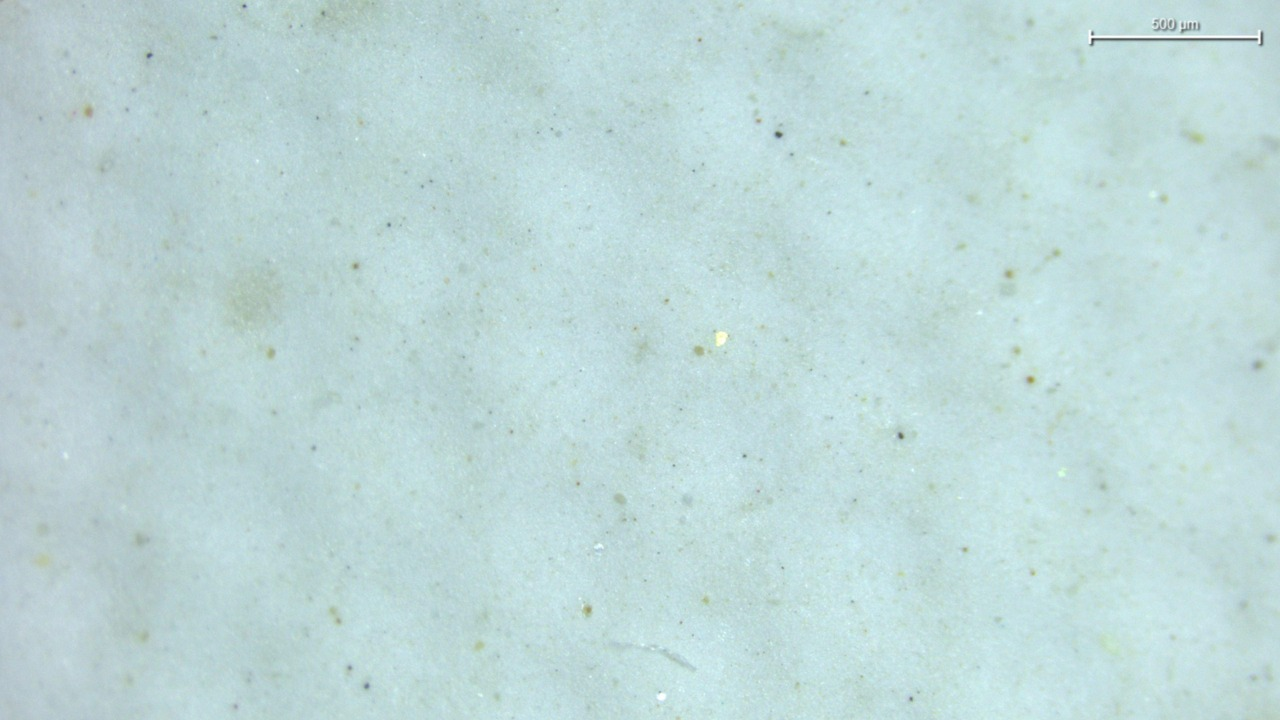microplastic_fragment: (715, 331, 727, 346)
